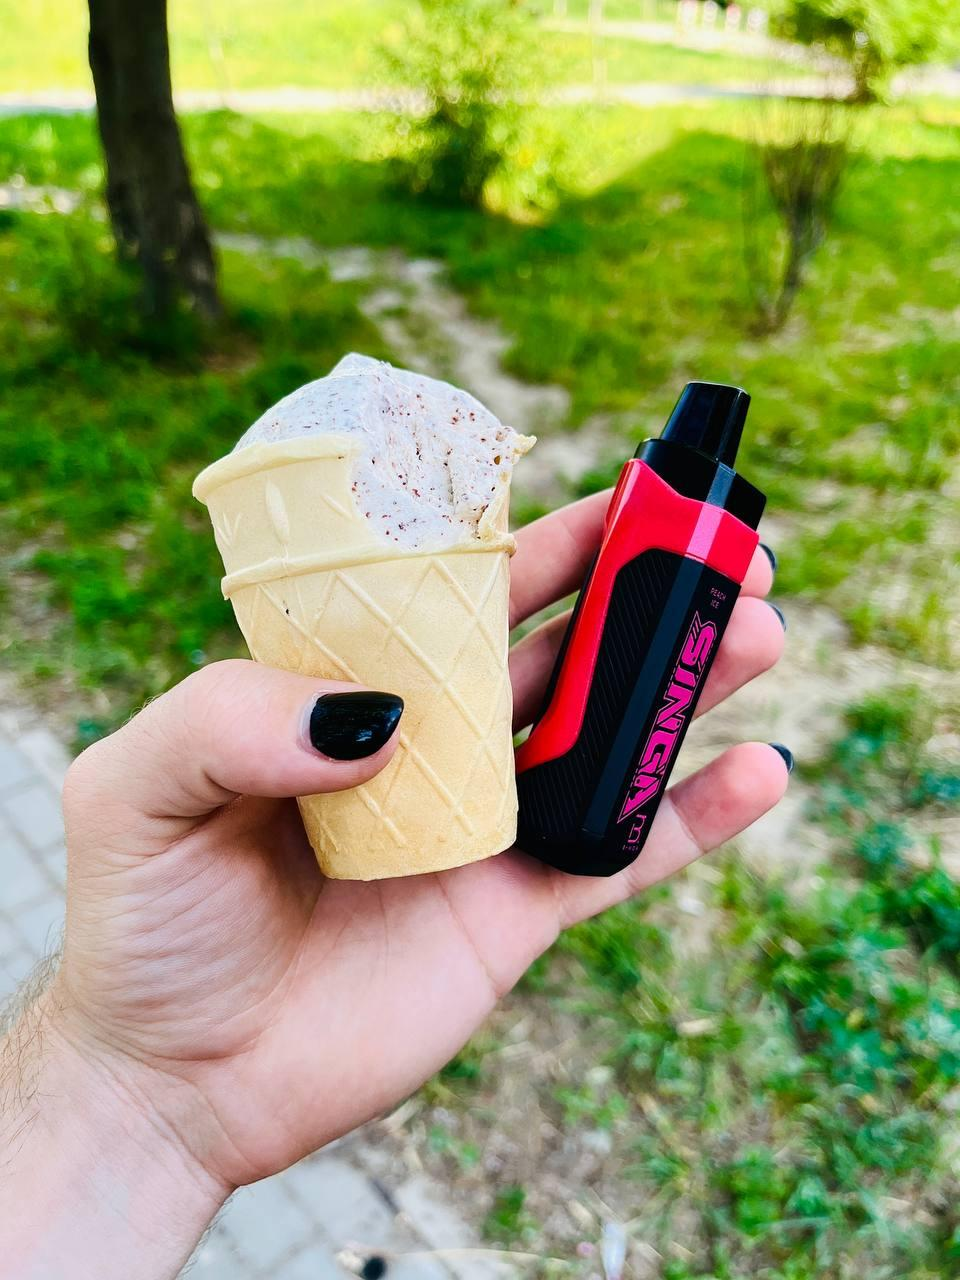Vape: (516, 381, 765, 877)
